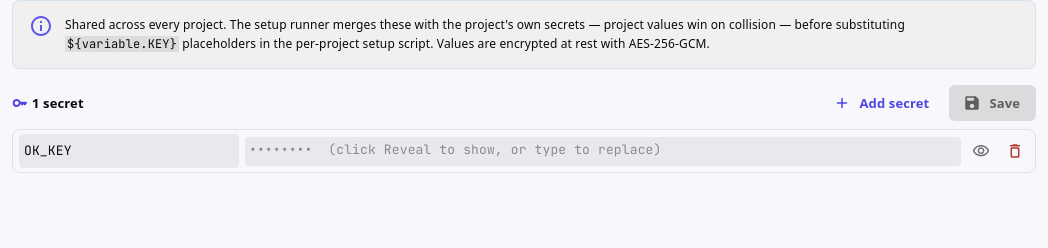
Test: SharedSecretsTab › flags an invalid (lowercase) key with the UPPER_SNAKE_CASE warning
Replace the text in the field showing "OK_KEY" with "lower_case": coordinates (129, 151) [24,137,234,165]
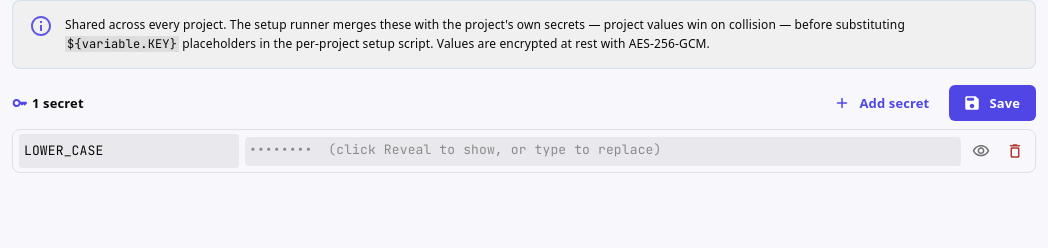
Replace the text in the field showing "OK_KEY" with "has-hyphen": coordinates (129, 151) [24,137,234,165]
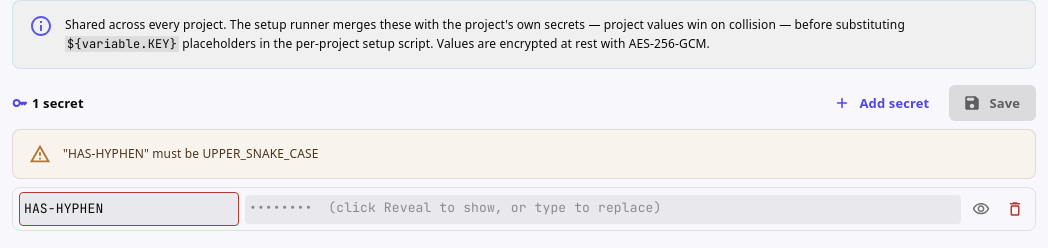
Now the text "\"HAS-HYPHEN\" must be UPPER_SNAKE_CASE" is shown, box [63,145,319,162]
